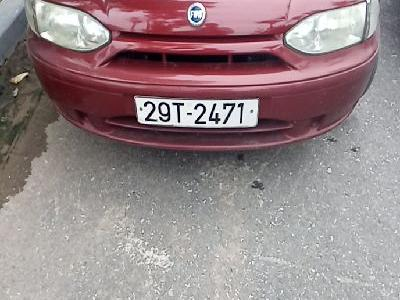car: (134, 96, 260, 130)
